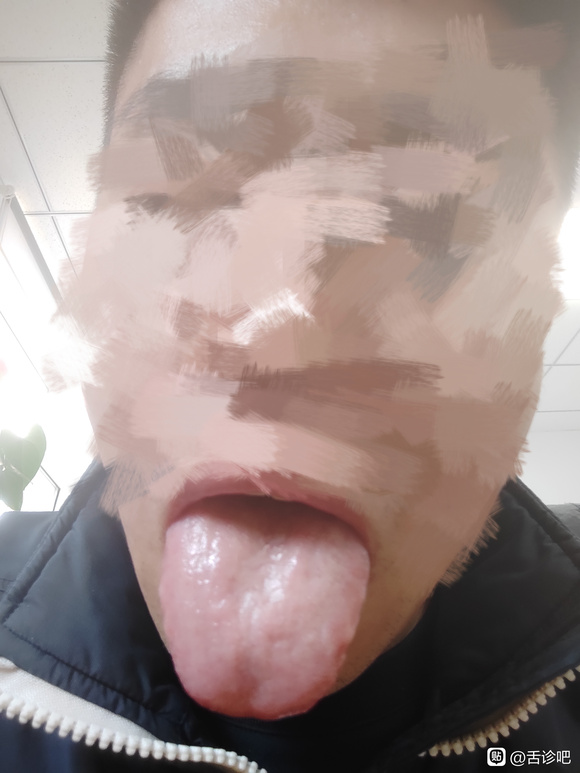baitaishe: (157, 493, 370, 719)
pangdashe: (157, 493, 370, 719)
